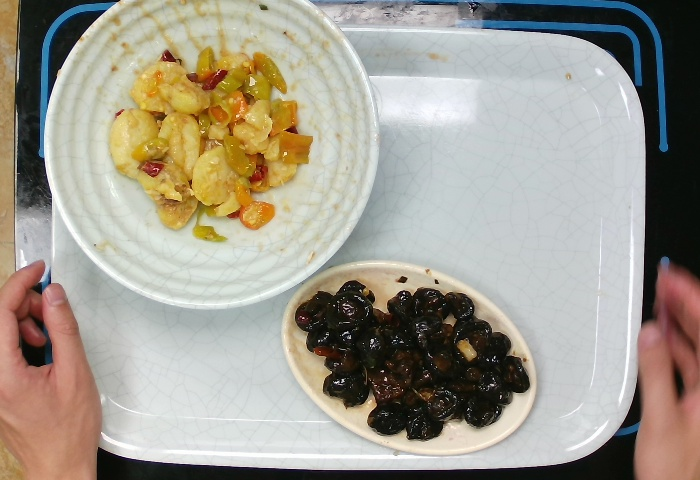JYsf-Da_Tang_Wan: (36, 1, 377, 320)
JYsf-Tuo_Yuan_Wan: (280, 259, 541, 456)
